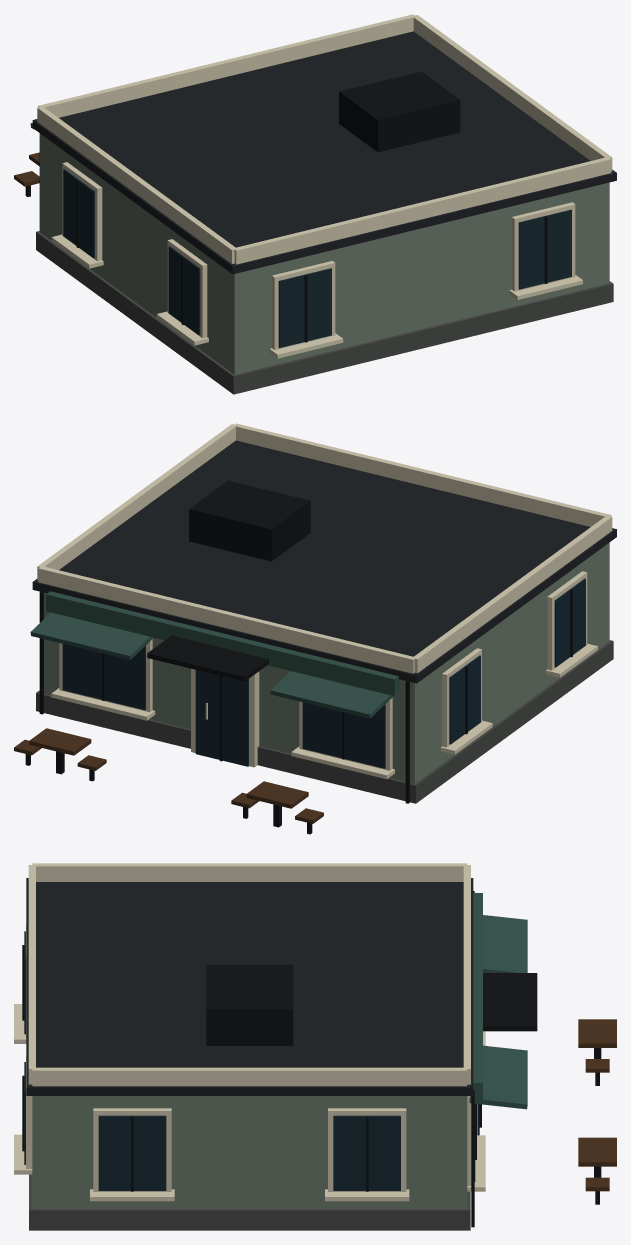
The model's file is 10_Bistro.obj.
The picture shows the model from 3 angles, top to bottom: view 1: azimuth 30°, elevation 25°; view 2: azimuth 150°, elevation 25°; view 3: azimuth 270°, elevation 25°; orthographic projection. The views are drawn at different scales.
Parts seen in each view (by area): view 1: Roof, Sage, Trim, Base, Glass, Metal; view 2: Roof, Trim, Sage, Glass, Metal, Awning, Base, Wood; view 3: Roof, Sage, Trim, Metal, Glass, Base, Awning, Wood.
Boxes of the visible parts, x1=… form: Roof: x1=32, y1=31, x2=616, y2=274; Sage: x1=40, y1=133, x2=609, y2=374; Trim: x1=37, y1=14, x2=612, y2=358; Base: x1=36, y1=231, x2=613, y2=394; Glass: x1=63, y1=169, x2=571, y2=347; Metal: x1=25, y1=71, x2=547, y2=342; Roof: x1=32, y1=440, x2=616, y2=683; Trim: x1=37, y1=423, x2=612, y2=779; Sage: x1=44, y1=542, x2=609, y2=783; Glass: x1=62, y1=578, x2=585, y2=768; Metal: x1=25, y1=480, x2=572, y2=834; Awning: x1=30, y1=591, x2=399, y2=718; Base: x1=36, y1=640, x2=613, y2=803; Wood: x1=14, y1=728, x2=323, y2=823; Roof: x1=26, y1=878, x2=473, y2=1095; Sage: x1=32, y1=1096, x2=467, y2=1208; Trim: x1=14, y1=863, x2=485, y2=1201; Metal: x1=22, y1=891, x2=601, y2=1227; Glass: x1=24, y1=931, x2=479, y2=1190; Base: x1=29, y1=1174, x2=470, y2=1230; Awning: x1=469, y1=893, x2=527, y2=1109; Wood: x1=578, y1=1019, x2=616, y2=1191.
Size of the model in its own units: 10.76 by 4.12 by 12.48.
